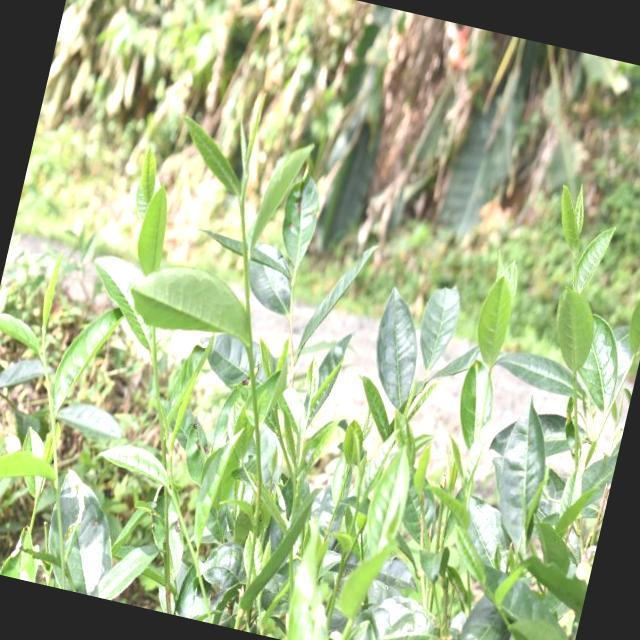Stem: (240, 200, 245, 214), (573, 255, 578, 266), (43, 360, 46, 367)
